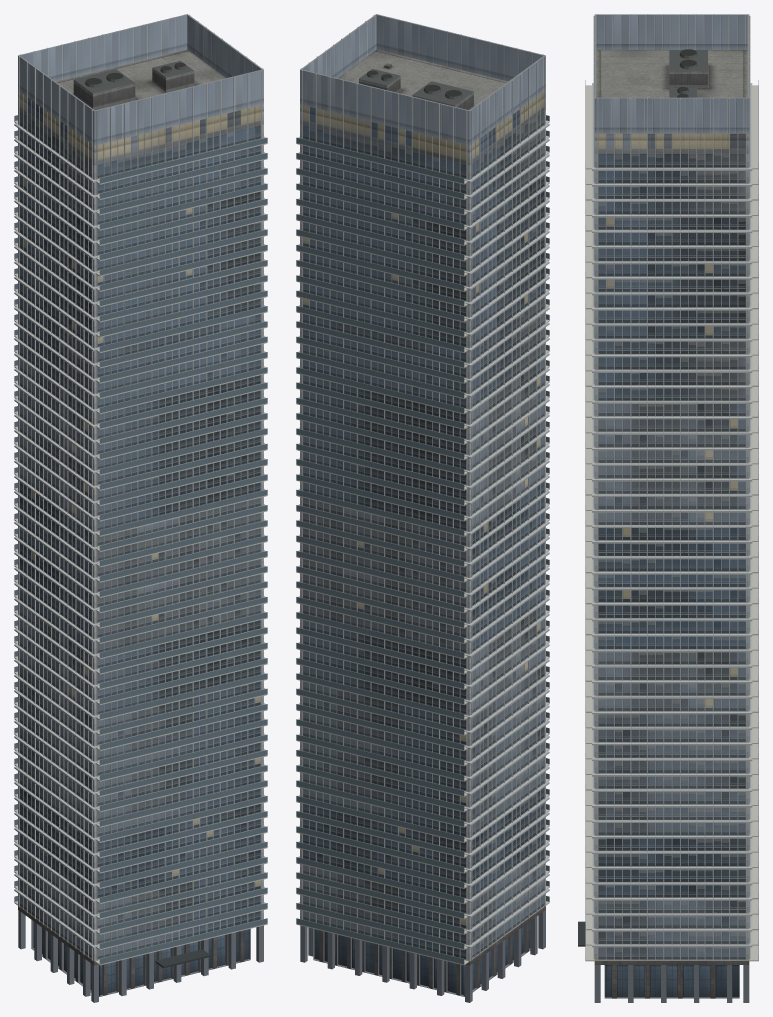
File: seattle_condotower_c.glb
3 renders of one model, left to right at view 1: azimuth 30°, elevation 25°; view 2: azimuth 150°, elevation 25°; view 3: azimuth 270°, elevation 25°, orthographic.
Parts seen in each view (by area): view 1: seattle_condotower_c; view 2: seattle_condotower_c; view 3: seattle_condotower_c.
Boxes of the visible parts, left/top/right/bottom form: seattle_condotower_c: left=14, top=14, right=267, bottom=1002; seattle_condotower_c: left=296, top=14, right=549, bottom=1002; seattle_condotower_c: left=578, top=14, right=758, bottom=1002.
Bounding box in the file's own units: 36.99 × 181 × 32.7.
1 material, 1 textured.
